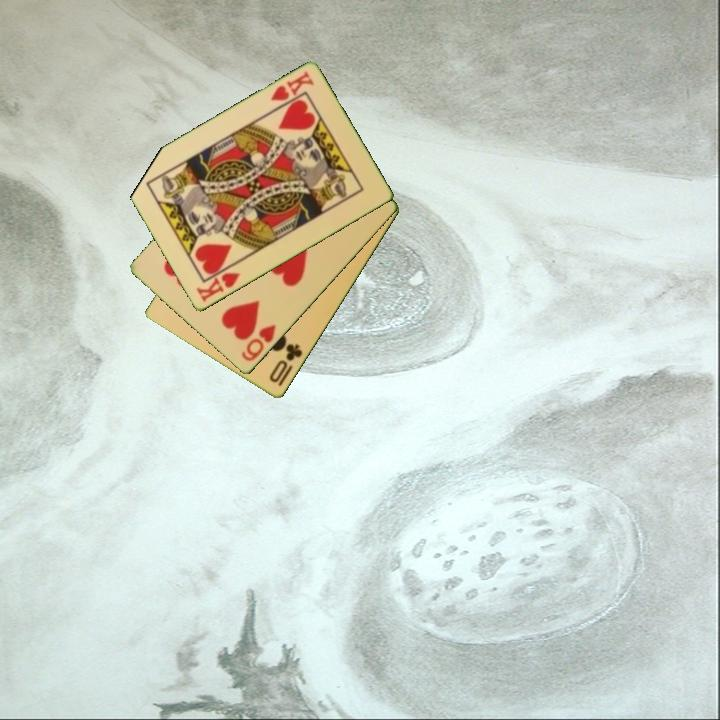10c: (266, 340, 306, 386)
6h: (238, 321, 279, 365)
Kh: (193, 260, 243, 305), (266, 68, 317, 104)
